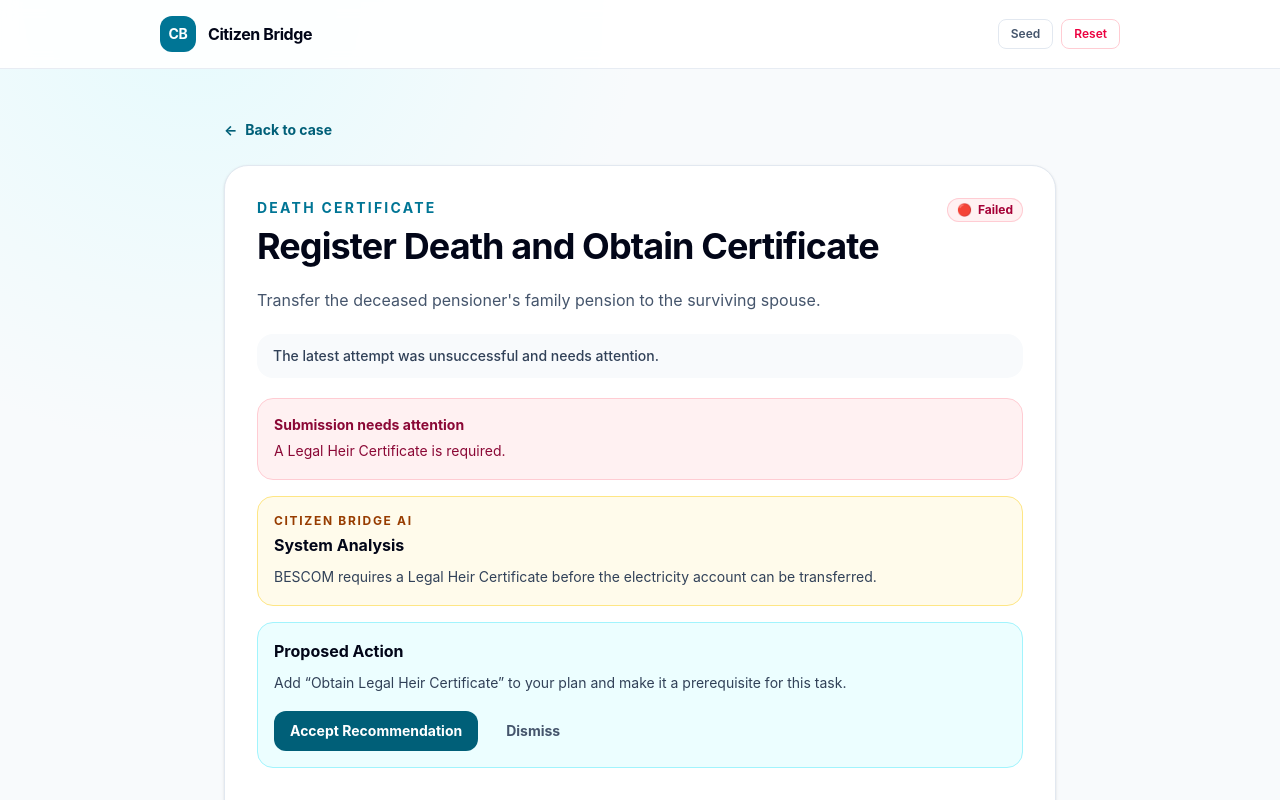
Test case: dismisses the recommendation without changing the failed task
expect the heading "Proposed Action" is shown: met, box [274,641,404,661]
Click the button "Dismiss".
click(533, 731)  # box [490,711,576,751]
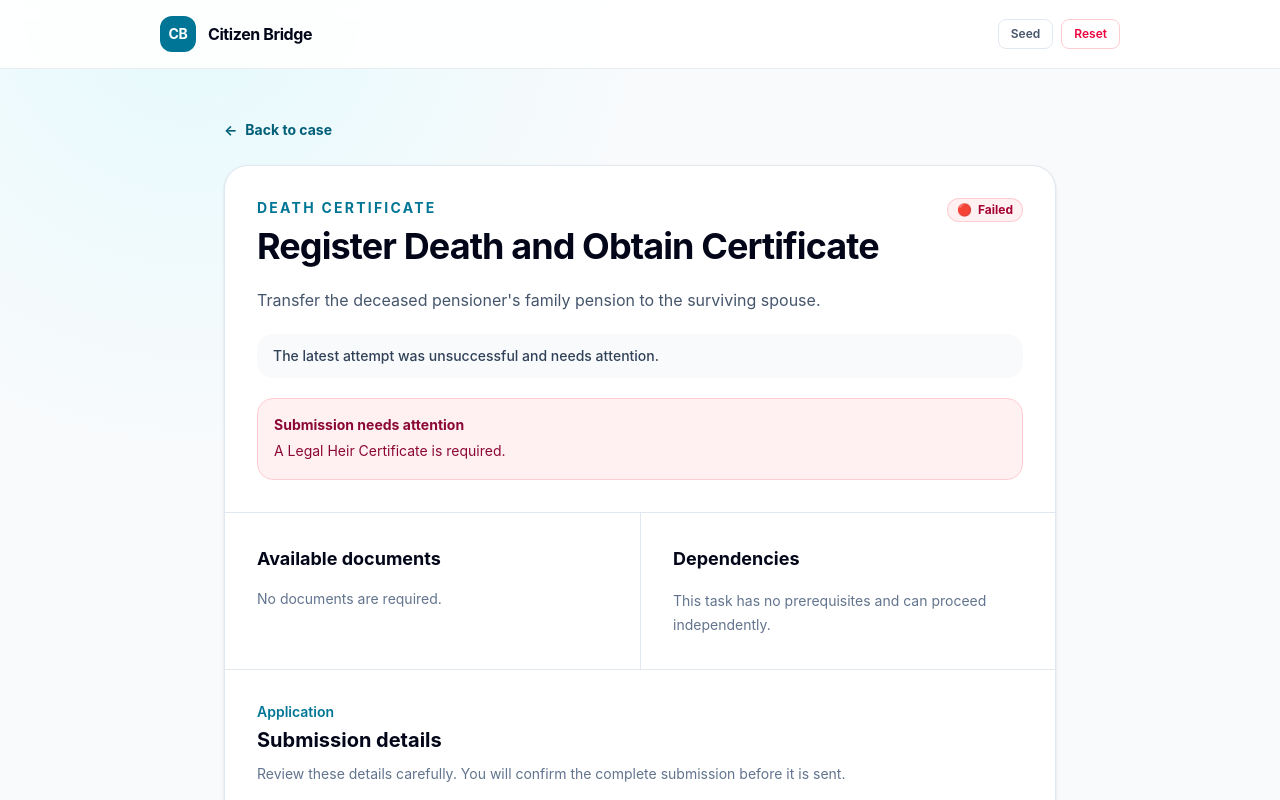
expect the text "A Legal Heir Certificate is required." is shown: met, box [274,442,506,459]
expect the heading "System Analysis" is gone: met
expect the heading "Proposed Action" is gone: met
